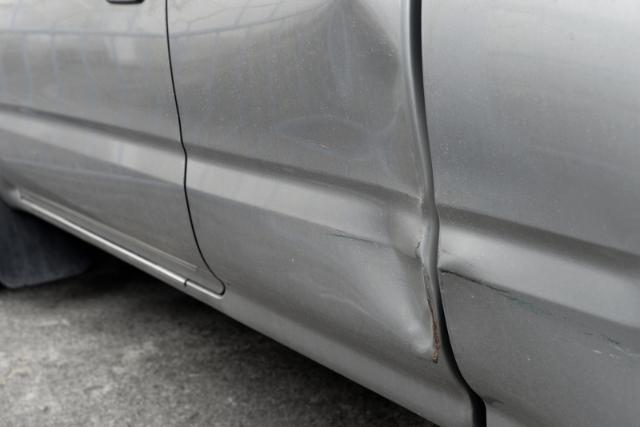Door: (172, 0, 479, 418)
